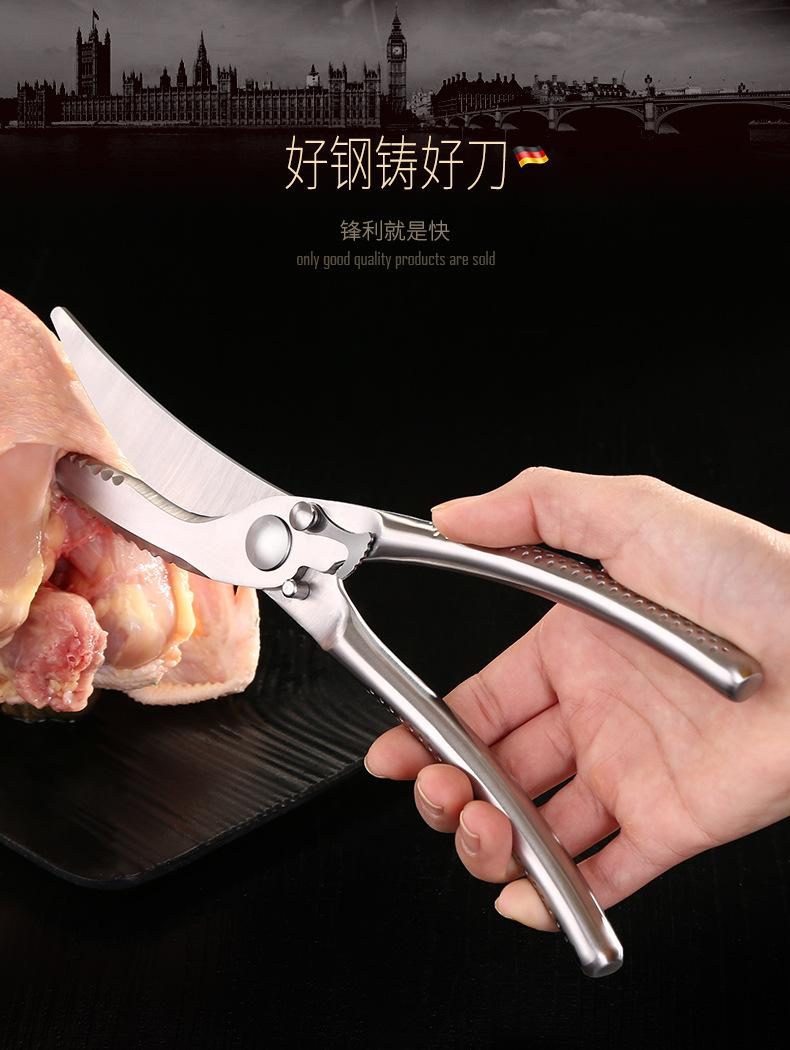scissor: (46, 238, 790, 975)
